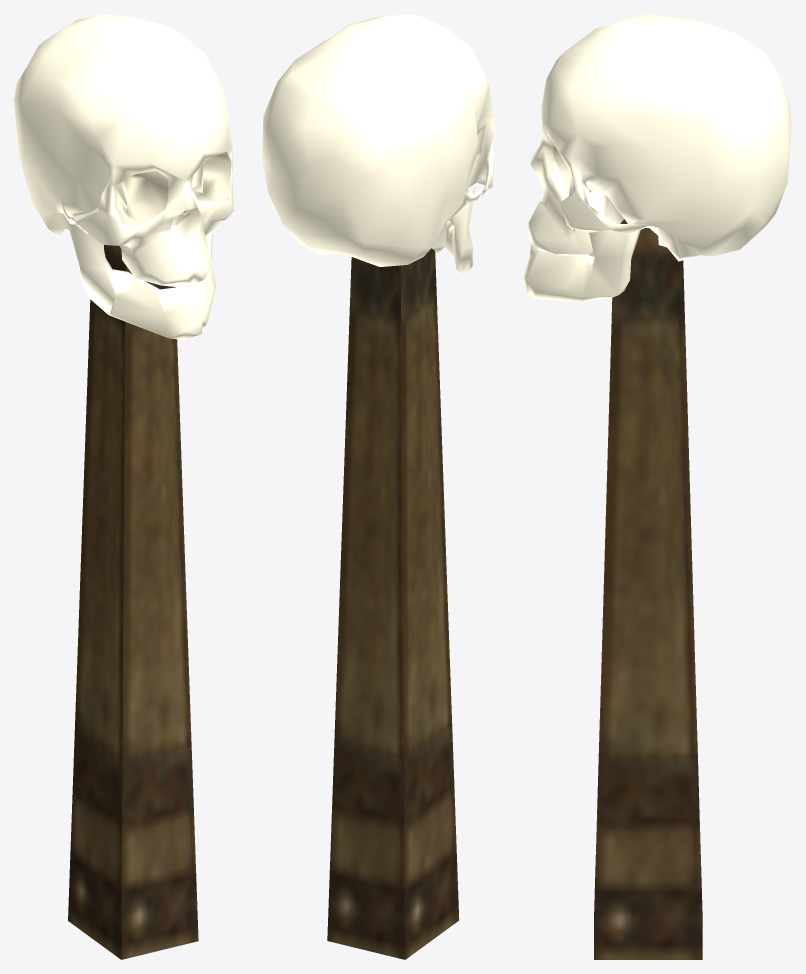
The model's file is PostWithSkull.glb.
3 renders of one model, left to right at view 1: azimuth 30°, elevation 25°; view 2: azimuth 150°, elevation 25°; view 3: azimuth 270°, elevation 25°, orthographic.
Visible parts, largest first — view 1: PostWithSkull; view 2: PostWithSkull; view 3: PostWithSkull.
Boxes of the visible parts, left/top/right/bottom form: PostWithSkull: left=14, top=14, right=233, bottom=959; PostWithSkull: left=262, top=14, right=494, bottom=959; PostWithSkull: left=523, top=14, right=791, bottom=959.
Size of what is drawn, in the model's own units: 0.2005 by 0.9866 by 0.2622.
1 material, 1 textured.
